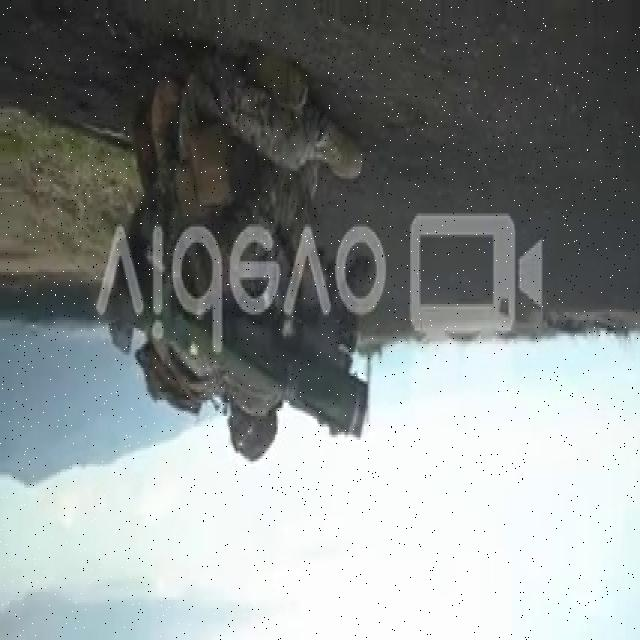bazooka: (107, 240, 372, 457)
